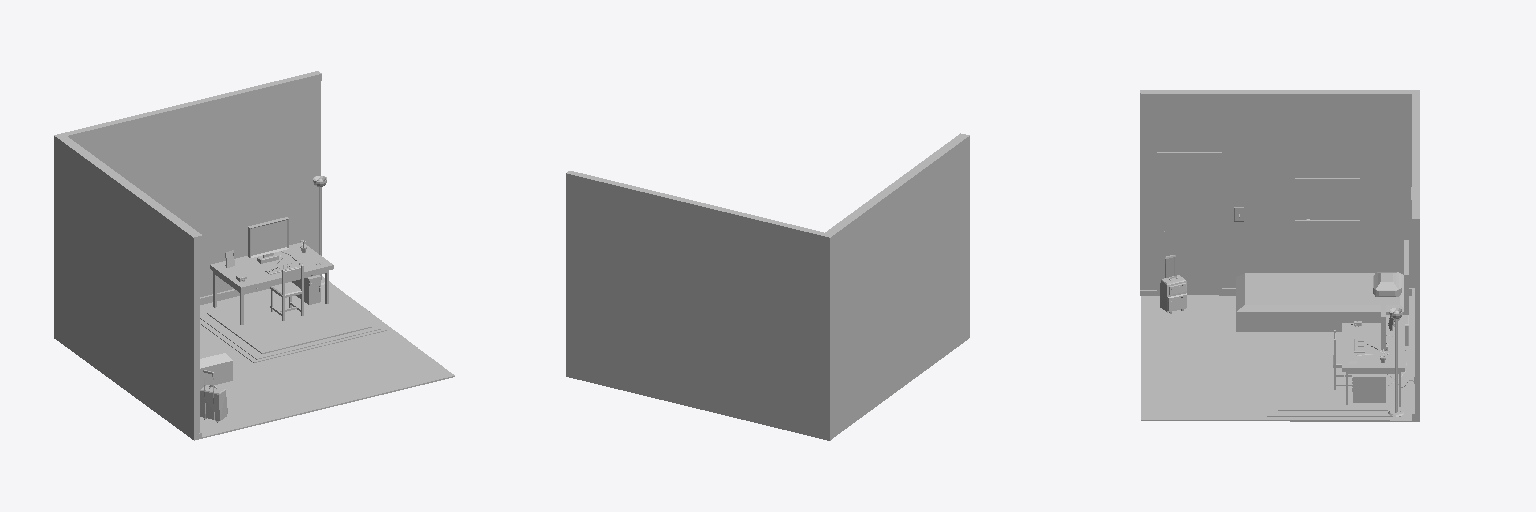
Rendered from room-model.obj.
3 renders of one model, left to right at view 1: azimuth 30°, elevation 25°; view 2: azimuth 150°, elevation 25°; view 3: azimuth 270°, elevation 25°, orthographic.
Bounding box in the file's own units: 4.04 × 2.97 × 3.71.